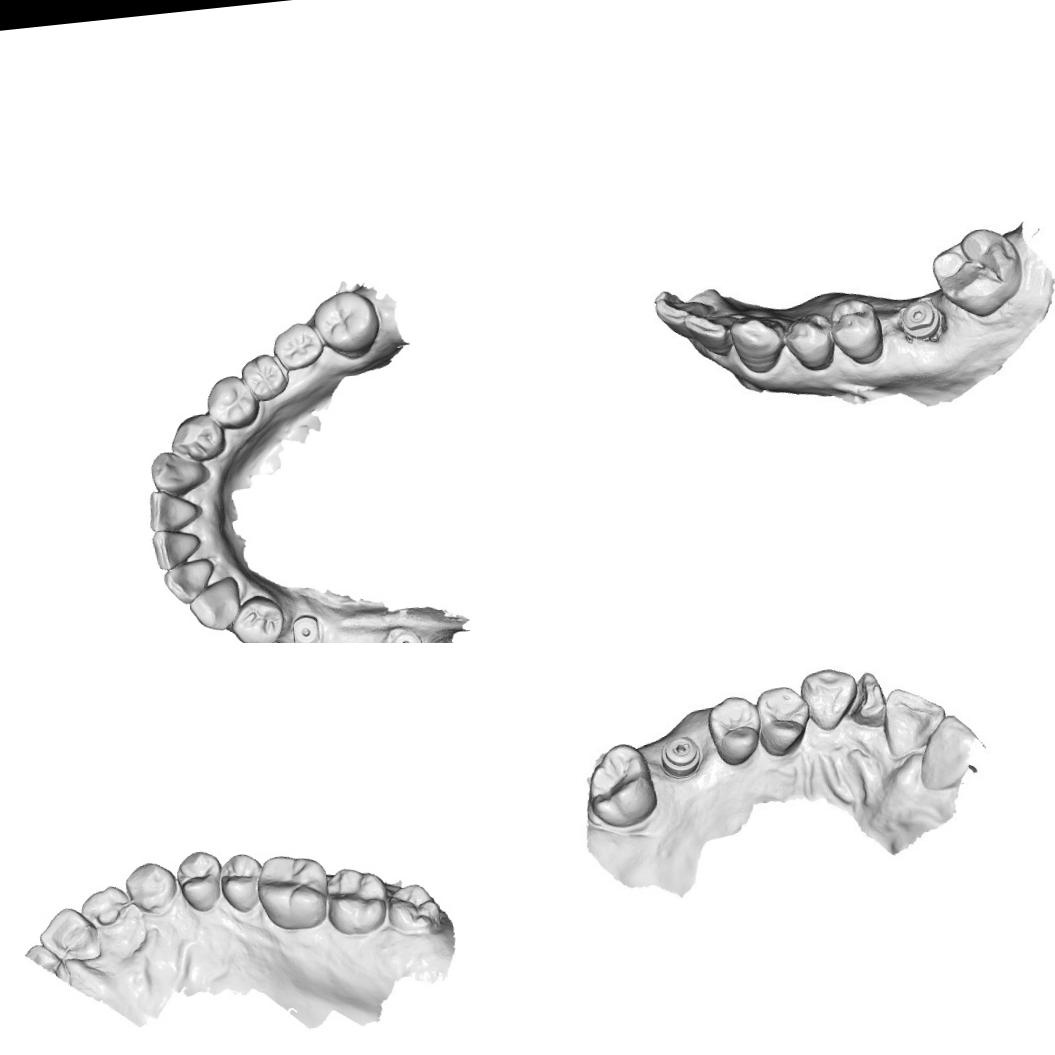canine: (184, 573, 244, 635), (731, 311, 786, 374), (148, 446, 213, 499), (125, 858, 184, 916)
implant: (894, 296, 944, 344), (289, 611, 323, 643), (386, 626, 424, 643)
implant_minus: (658, 735, 706, 780)
incisor: (873, 682, 949, 762), (796, 662, 863, 735), (918, 711, 976, 790), (34, 903, 102, 967), (76, 880, 136, 934), (652, 284, 710, 338), (161, 555, 218, 608), (143, 486, 205, 534), (846, 666, 889, 733), (149, 524, 204, 574), (688, 307, 738, 358)
molar: (580, 739, 660, 831), (930, 223, 1016, 307), (252, 850, 334, 936), (308, 286, 383, 360), (322, 863, 392, 940), (383, 878, 445, 939), (269, 318, 326, 372), (236, 350, 290, 404)
premolar: (701, 691, 764, 768), (752, 682, 811, 758), (828, 294, 884, 367), (173, 848, 227, 916), (202, 372, 260, 433), (216, 848, 268, 916), (167, 410, 228, 467), (786, 310, 836, 376), (227, 590, 287, 643)
